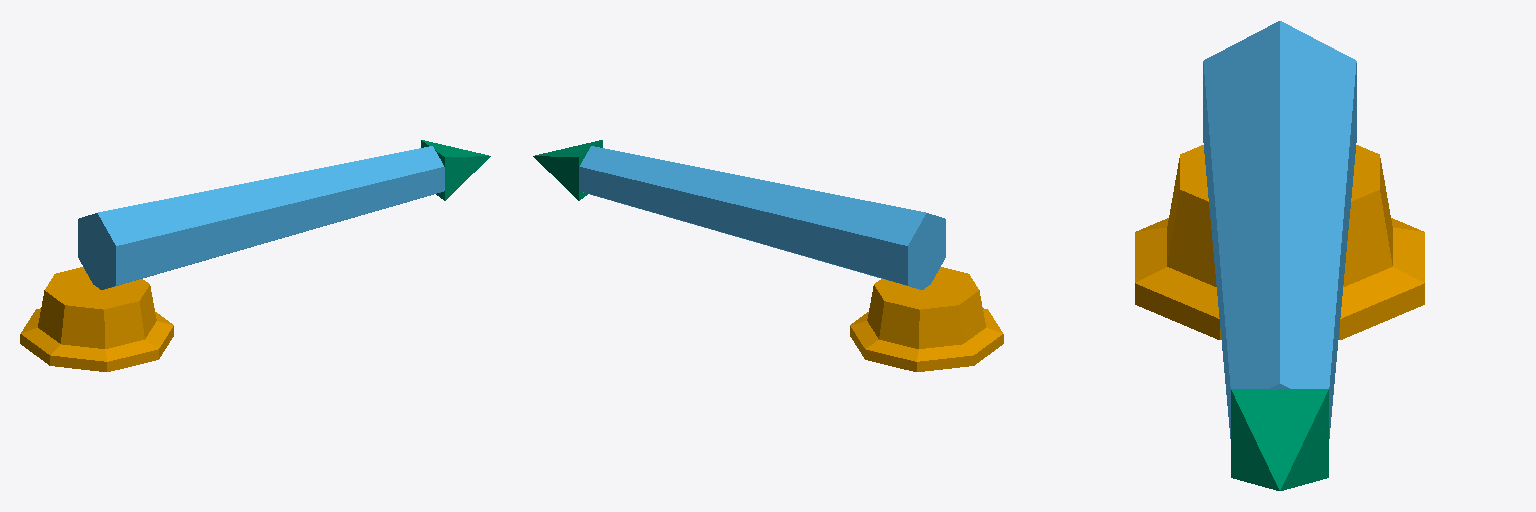
URDF robot description (mesh_arm):
<?xml version="1.0"?>
<!-- Mesh demo: package:// paths, a binary STL in millimetres (scaled), an OBJ with quads and hexagons,
     and an ASCII STL referenced by a path relative to this file. Import with "Fix base". -->
<robot name="mesh_arm">
  <link name="base_link">
    <inertial>
      <mass value="3.0"/>
      <inertia ixx="0.01" ixy="0" ixz="0" iyy="0.01" iyz="0" izz="0.01"/>
    </inertial>
    <visual>
      <geometry>
        <mesh filename="package://demo_meshes/meshes/base.stl" scale="0.001 0.001 0.001"/>
      </geometry>
    </visual>
    <collision>
      <!-- Imported as the mesh's bounding box. -->
      <geometry>
        <mesh filename="package://demo_meshes/meshes/base.stl" scale="0.001 0.001 0.001"/>
      </geometry>
    </collision>
  </link>

  <joint name="shoulder_yaw" type="revolute">
    <parent link="base_link"/>
    <child link="arm_link"/>
    <origin xyz="0 0 0.06" rpy="0 0 0"/>
    <axis xyz="0 0 1"/>
    <limit lower="-2.5" upper="2.5" effort="12" velocity="1.5"/>
  </joint>

  <link name="arm_link">
    <inertial>
      <mass value="0.8"/>
      <inertia ixx="0.001" ixy="0" ixz="0" iyy="0.01" iyz="0" izz="0.01"/>
    </inertial>
    <visual>
      <geometry>
        <mesh filename="package://demo_meshes/meshes/arm.obj"/>
      </geometry>
    </visual>
    <collision>
      <origin xyz="0.2 0 0.04" rpy="0 0 0"/>
      <geometry>
        <box size="0.4 0.08 0.08"/>
      </geometry>
    </collision>
  </link>

  <joint name="tool_mount" type="fixed">
    <parent link="arm_link"/>
    <child link="tool_link"/>
    <origin xyz="0.4 0 0.04" rpy="0 0 0"/>
  </joint>

  <!-- No collision: merged into arm_link, its mesh is drawn by the arm's part. -->
  <link name="tool_link">
    <visual>
      <geometry>
        <mesh filename="../meshes/tip_ascii.stl"/>
      </geometry>
    </visual>
  </link>
</robot>

--- Facts derived from the render (not from the file) ---
3 views of the same robot in one strip: view 1: azimuth 30°, elevation 25°; view 2: azimuth 150°, elevation 25°; view 3: azimuth 270°, elevation 25° (orthographic).
Robot: mesh_arm — 3 links, 2 joints (1 revolute, 1 fixed); root link base_link; default pose: all joints at 0.
Links seen in each view (by area): view 1: arm_link, base_link, tool_link; view 2: arm_link, base_link, tool_link; view 3: arm_link, base_link, tool_link.
Boxes of the visible links, bbox=[...] form: arm_link: bbox=[78, 146, 444, 289]; base_link: bbox=[20, 267, 173, 371]; tool_link: bbox=[421, 140, 490, 200]; arm_link: bbox=[579, 146, 945, 289]; base_link: bbox=[850, 267, 1003, 371]; tool_link: bbox=[533, 140, 602, 200]; arm_link: bbox=[1203, 21, 1356, 438]; base_link: bbox=[1135, 145, 1424, 339]; tool_link: bbox=[1231, 389, 1328, 490].
Bounding box of the posed robot: 0.5439 × 0.1478 × 0.145 m (x, y, z).
Meshes: 3 distinct files referenced, 3 mesh visuals loaded (1 binary STL, 1 ASCII STL, 1 OBJ).
